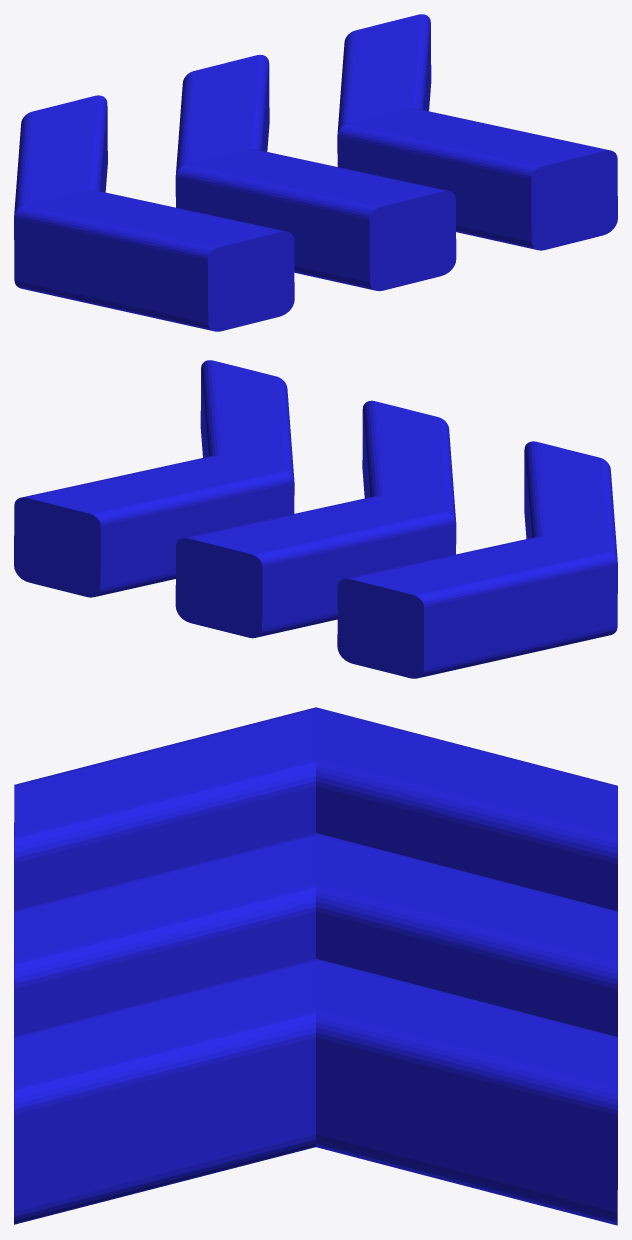
The model's file is arrow_left.glb.
3 views of the same model, one above another, from view 1: azimuth 30°, elevation 25°; view 2: azimuth 150°, elevation 25°; view 3: azimuth 270°, elevation 25° (orthographic). The views are drawn at different scales.
Visible parts, largest first — view 1: 立方体; view 2: 立方体; view 3: 立方体.
Part boxes in pixels (<box>): 立方体: <box>14,14,617,331</box>; 立方体: <box>14,360,617,678</box>; 立方体: <box>14,707,617,1225</box>.
Size of the model in its own units: 3.16 by 0.5195 by 2.
